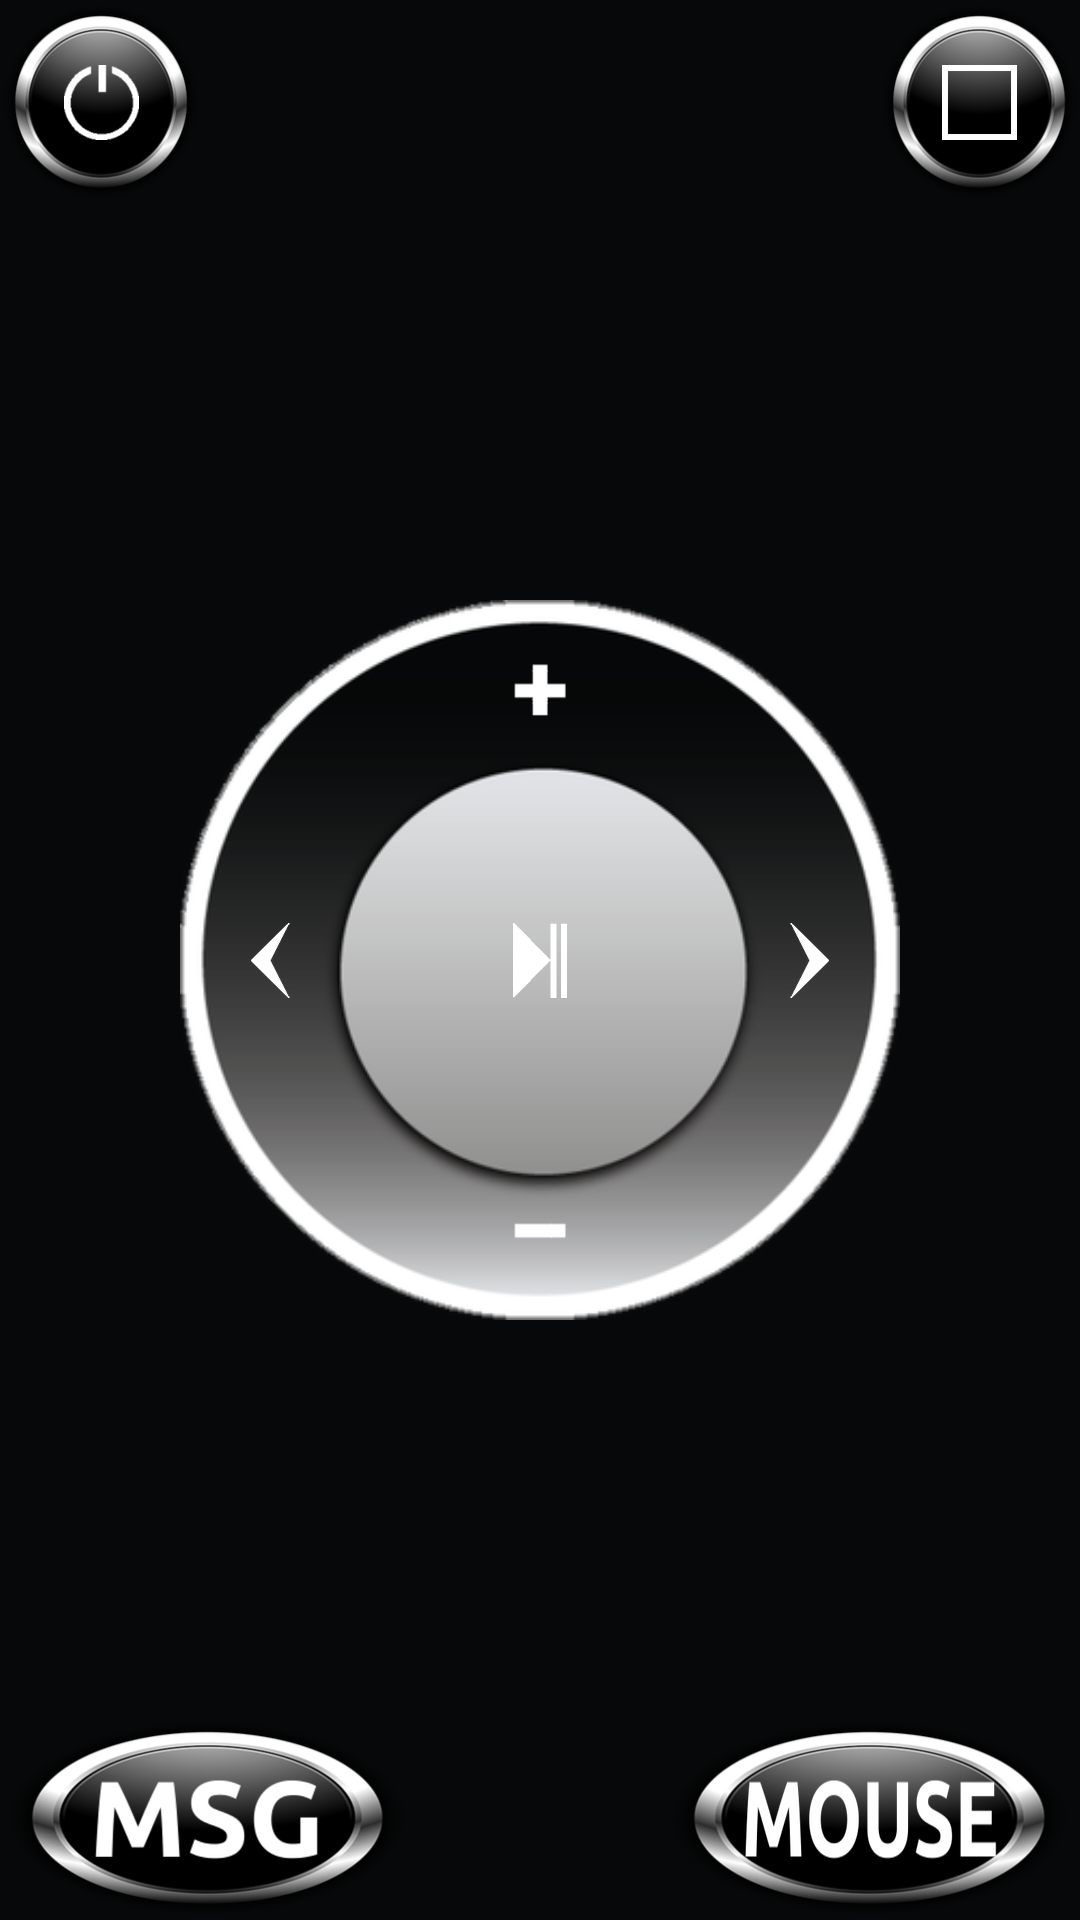

Named icons in this screenshot (1080*1920) and their centers, [x,y]:
Play/Pause: [540,960]
Shut down the computer: [101,101]
Stop: [979,101]
